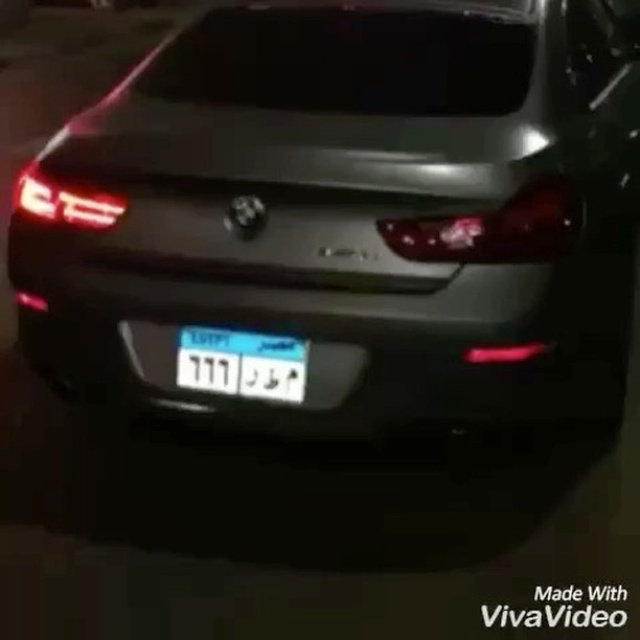License Plate: (160, 322, 316, 410)
